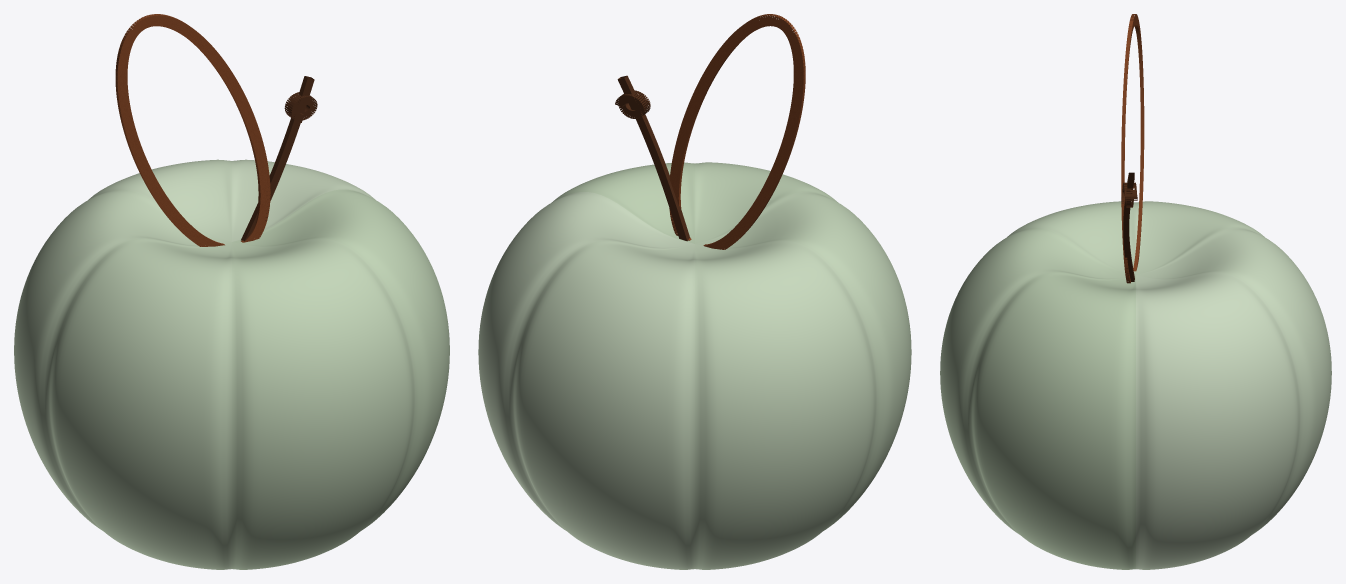
Rendered from fabric_apple_6panels_leather_v1.3.0.glb.
3 renders of one model, left to right at view 1: azimuth 30°, elevation 25°; view 2: azimuth 150°, elevation 25°; view 3: azimuth 270°, elevation 25°, orthographic. The views are drawn at different scales.
Parts seen in each view (by area): view 1: Body_Panel_02, Body_Panel_03, Body_Panel_01, Body_Panel_04, Leather_Loop, Body_Panel_05, Body_Panel_06, Leather_Stem_Cord, Leather_End_Knot; view 2: Body_Panel_05, Body_Panel_04, Body_Panel_06, Body_Panel_03, Leather_Loop, Body_Panel_02, Body_Panel_01, Leather_Stem_Cord, Leather_End_Knot; view 3: Body_Panel_06, Body_Panel_01, Body_Panel_05, Body_Panel_02, Body_Panel_04, Body_Panel_03, Leather_Loop, Leather_Stem_Cord.
Boxes of the visible parts, x1=… form: Body_Panel_02: x1=232, y1=238, x2=415, y2=569; Body_Panel_03: x1=48, y1=238, x2=231, y2=569; Body_Panel_01: x1=232, y1=189, x2=449, y2=530; Body_Panel_04: x1=14, y1=189, x2=231, y2=530; Leather_Loop: x1=115, y1=14, x2=270, y2=246; Body_Panel_05: x1=88, y1=159, x2=231, y2=241; Body_Panel_06: x1=232, y1=159, x2=375, y2=241; Leather_Stem_Cord: x1=241, y1=76, x2=314, y2=241; Leather_End_Knot: x1=284, y1=92, x2=317, y2=122; Body_Panel_05: x1=512, y1=240, x2=694, y2=569; Body_Panel_04: x1=695, y1=240, x2=877, y2=569; Body_Panel_06: x1=478, y1=192, x2=694, y2=530; Body_Panel_03: x1=695, y1=192, x2=911, y2=530; Leather_Loop: x1=669, y1=14, x2=805, y2=249; Body_Panel_02: x1=695, y1=162, x2=837, y2=243; Body_Panel_01: x1=552, y1=162, x2=694, y2=243; Leather_Stem_Cord: x1=617, y1=75, x2=689, y2=241; Leather_End_Knot: x1=615, y1=90, x2=650, y2=118; Body_Panel_06: x1=1136, y1=272, x2=1301, y2=569; Body_Panel_01: x1=970, y1=272, x2=1135, y2=569; Body_Panel_05: x1=1136, y1=228, x2=1331, y2=534; Body_Panel_02: x1=940, y1=228, x2=1135, y2=534; Body_Panel_04: x1=1136, y1=201, x2=1264, y2=274; Body_Panel_03: x1=1007, y1=201, x2=1135, y2=274; Leather_Loop: x1=1121, y1=14, x2=1144, y2=283; Leather_Stem_Cord: x1=1123, y1=172, x2=1134, y2=281.
Size of the model in its own units: 0.0795 by 0.1083 by 0.08.
Materials: 8 (2 with a texture image).
